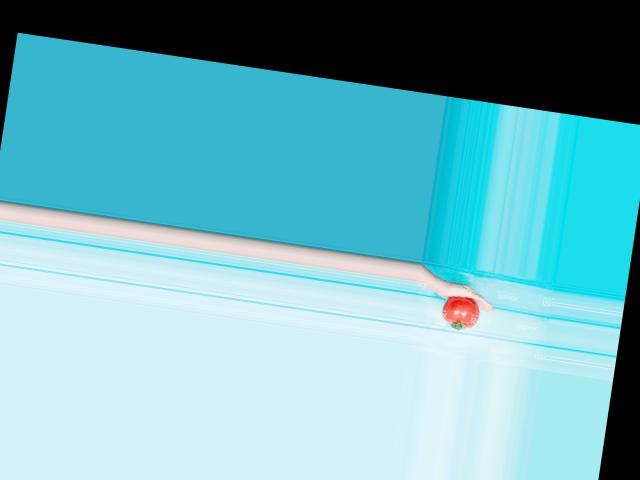tomato: (441, 293, 482, 331)
